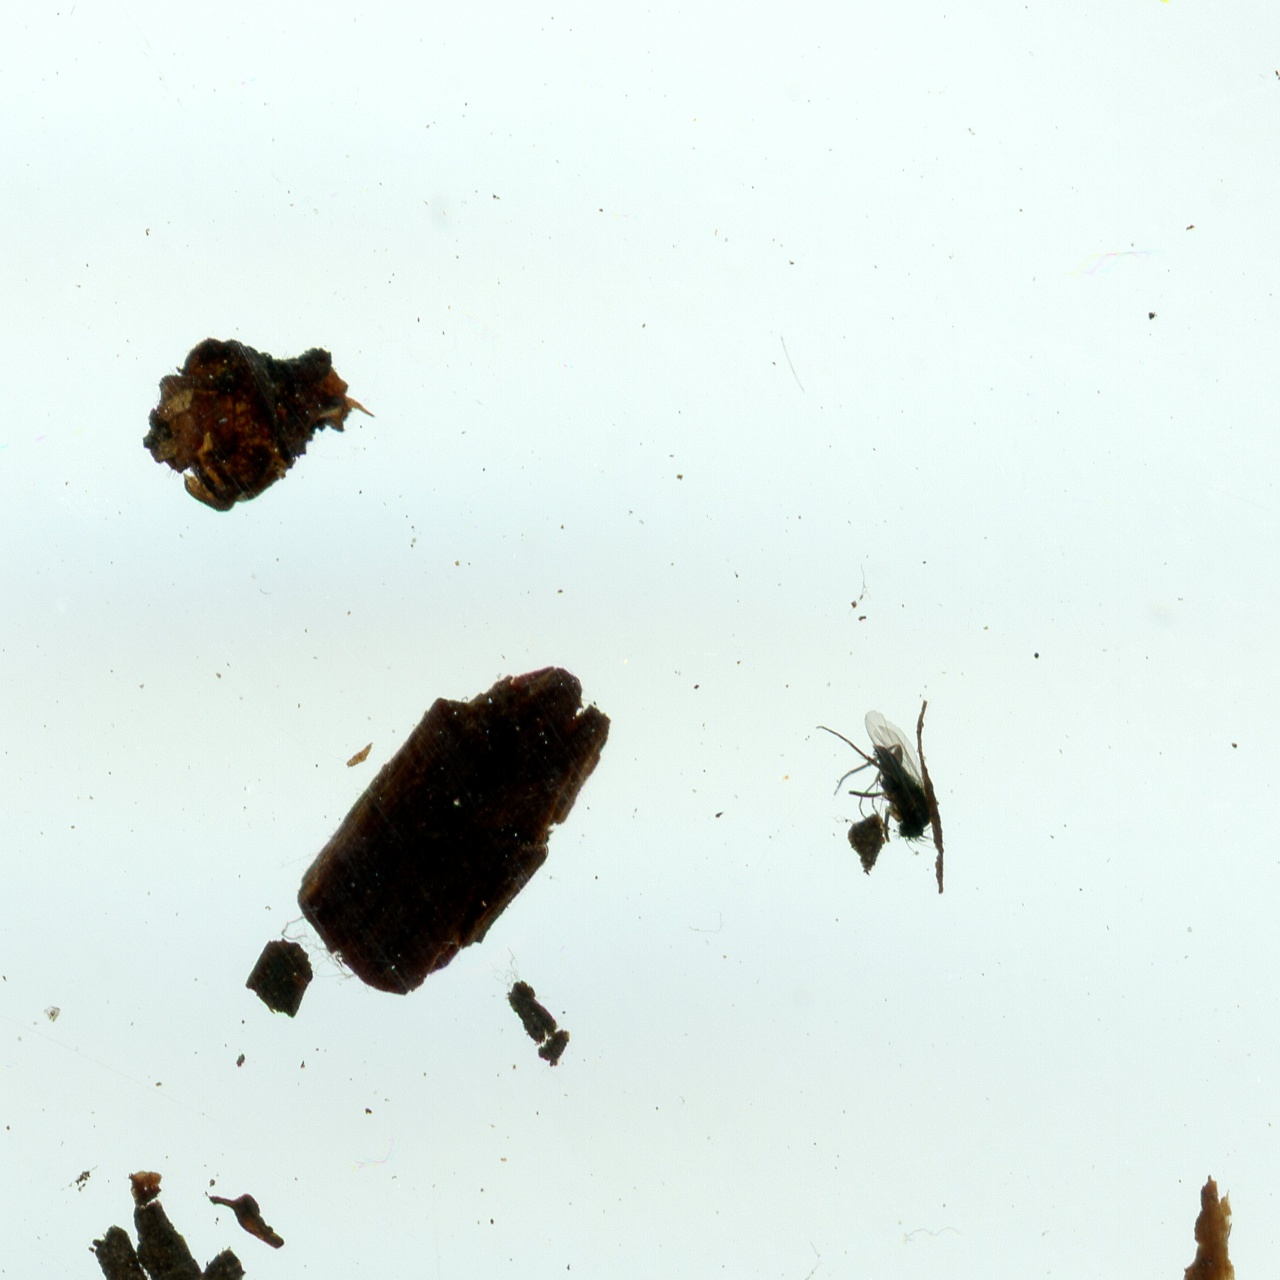arthropod: (803, 690, 959, 883)
